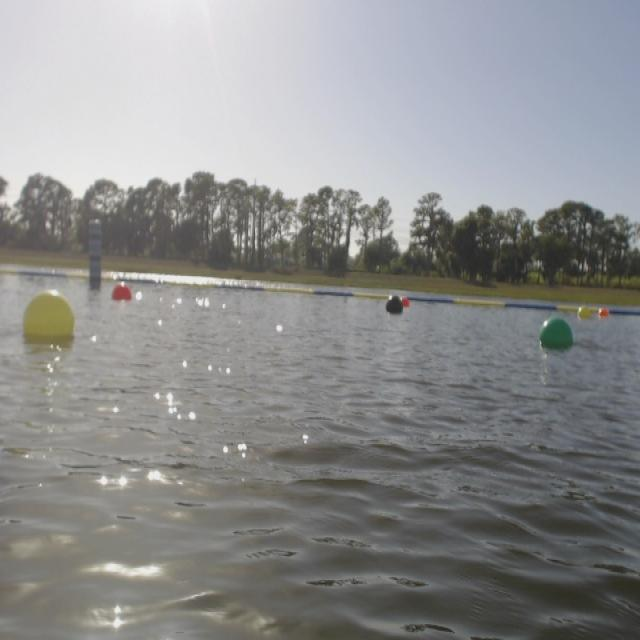Black_Buoy: (382, 296, 402, 323)
Green_Buoy: (534, 319, 576, 356)
Orange__Buoy: (106, 289, 132, 305), (598, 308, 614, 324)
White_Buoy: (82, 218, 104, 284)
